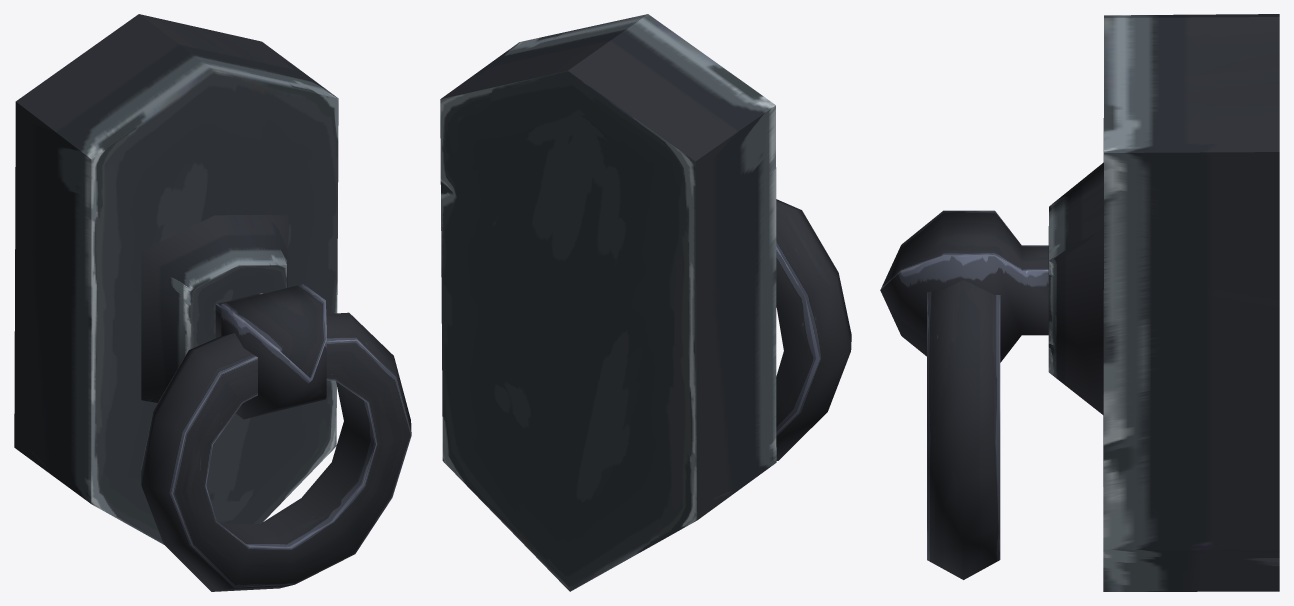
The model's file is SM_PROP_wallbracket_dungeon_01.fbx.
3 renders of one model, left to right at view 1: azimuth 30°, elevation 25°; view 2: azimuth 150°, elevation 25°; view 3: azimuth 270°, elevation 25°, orthographic. The views are drawn at different scales.
Parts seen in each view (by area): view 1: SM_PROP_wallbracket_dungeon_01, SM_PROP_wallbracket_ring_dungeon_01; view 2: SM_PROP_wallbracket_dungeon_01, SM_PROP_wallbracket_ring_dungeon_01; view 3: SM_PROP_wallbracket_dungeon_01, SM_PROP_wallbracket_ring_dungeon_01.
Boxes of the visible parts, x1=… form: SM_PROP_wallbracket_dungeon_01: x1=14, y1=14, x2=338, y2=544; SM_PROP_wallbracket_ring_dungeon_01: x1=141, y1=312, x2=411, y2=591; SM_PROP_wallbracket_dungeon_01: x1=440, y1=14, x2=776, y2=591; SM_PROP_wallbracket_ring_dungeon_01: x1=776, y1=199, x2=851, y2=460; SM_PROP_wallbracket_dungeon_01: x1=880, y1=14, x2=1279, y2=591; SM_PROP_wallbracket_ring_dungeon_01: x1=927, y1=280, x2=1000, y2=579.
Bounding box in the file's own units: 29.26 × 52.08 × 32.74.
